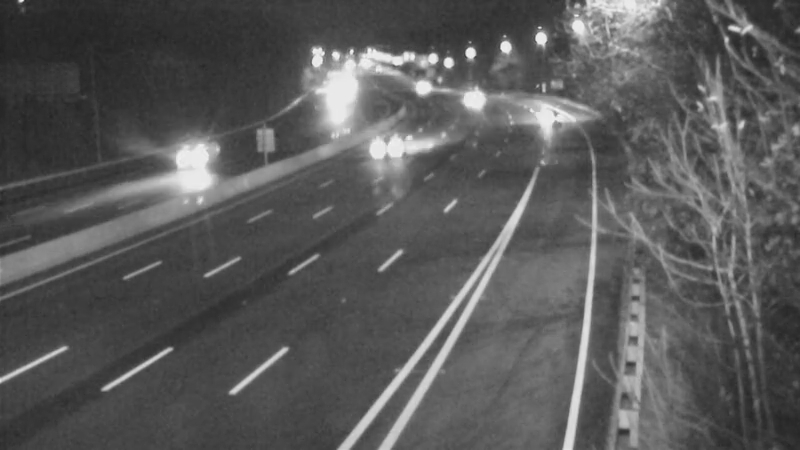vehicle: (152, 115, 232, 195), (392, 63, 442, 113), (444, 70, 494, 120), (524, 90, 574, 140), (368, 119, 418, 169), (307, 81, 357, 131)
